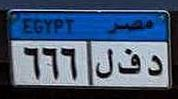6: (40, 45, 60, 81), (60, 46, 79, 82), (22, 44, 40, 80)
daal: (145, 51, 163, 78)
faa: (117, 48, 143, 79)
laam: (95, 46, 114, 80)
